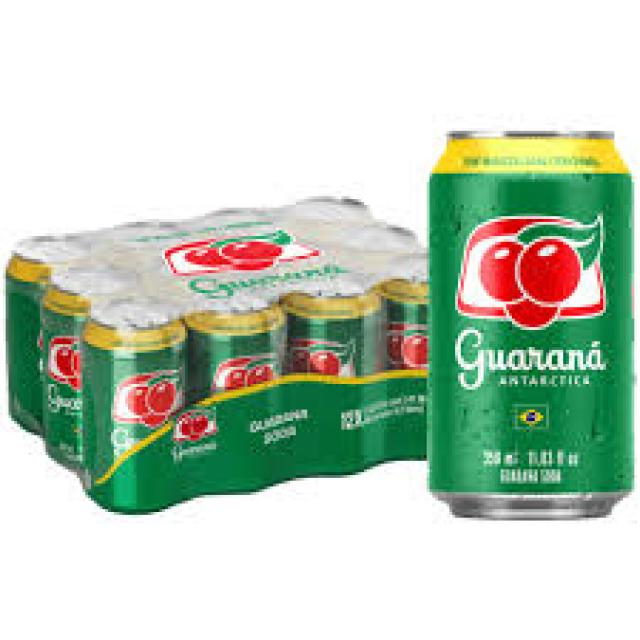Cans: (421, 122, 640, 524)
